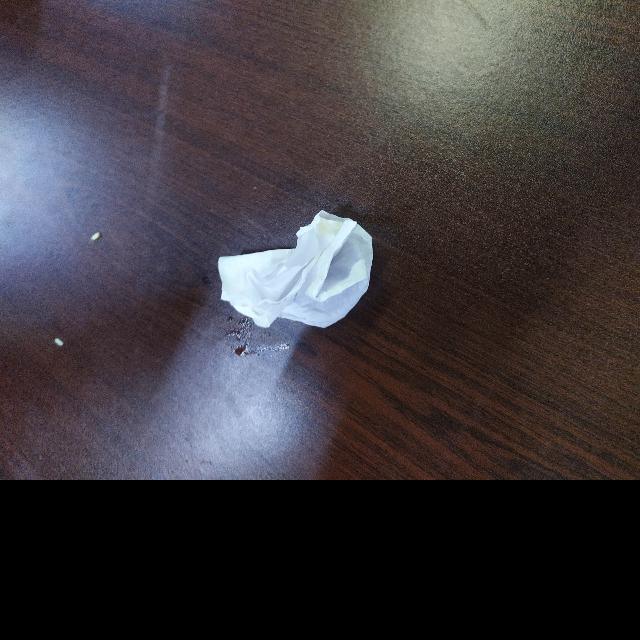kitchen paper: (212, 210, 378, 334)
